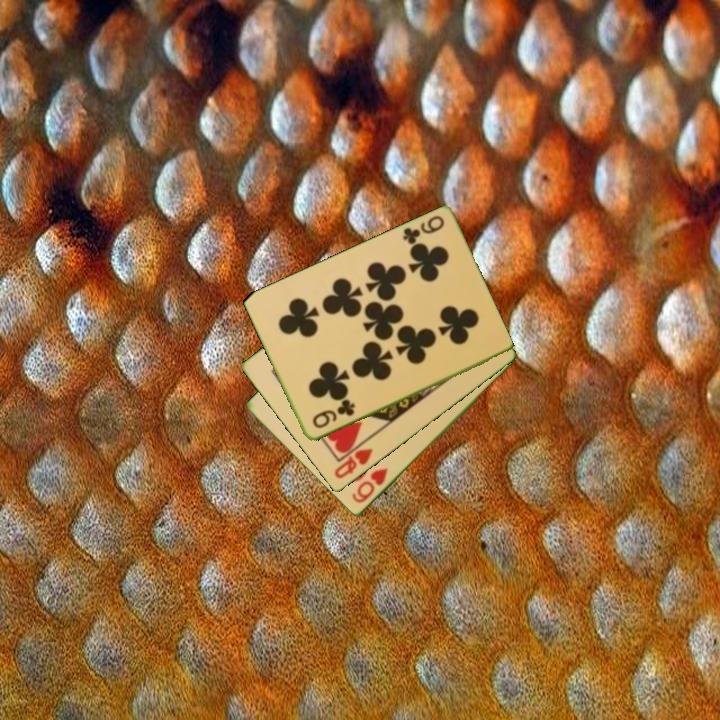6h: (348, 465, 391, 506)
9c: (399, 212, 447, 248), (309, 397, 358, 432)
Qh: (331, 445, 375, 482)
